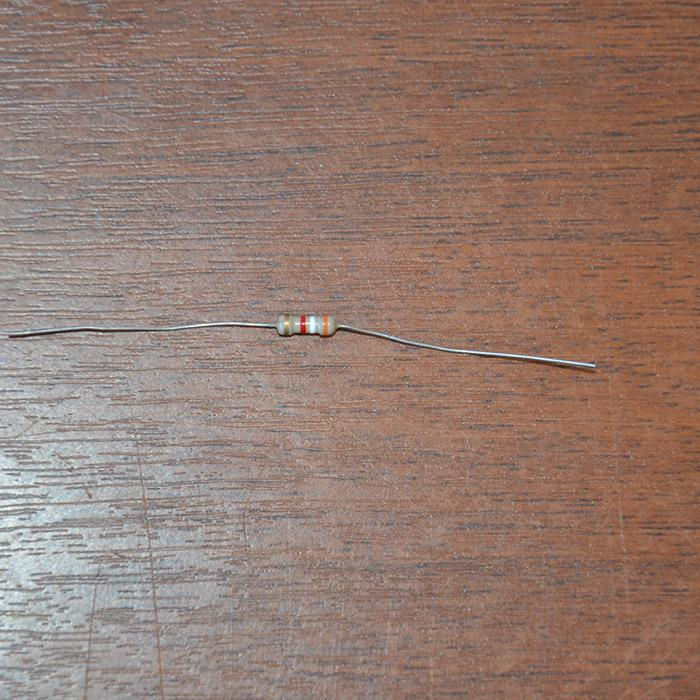resistor: (275, 313, 336, 336)
